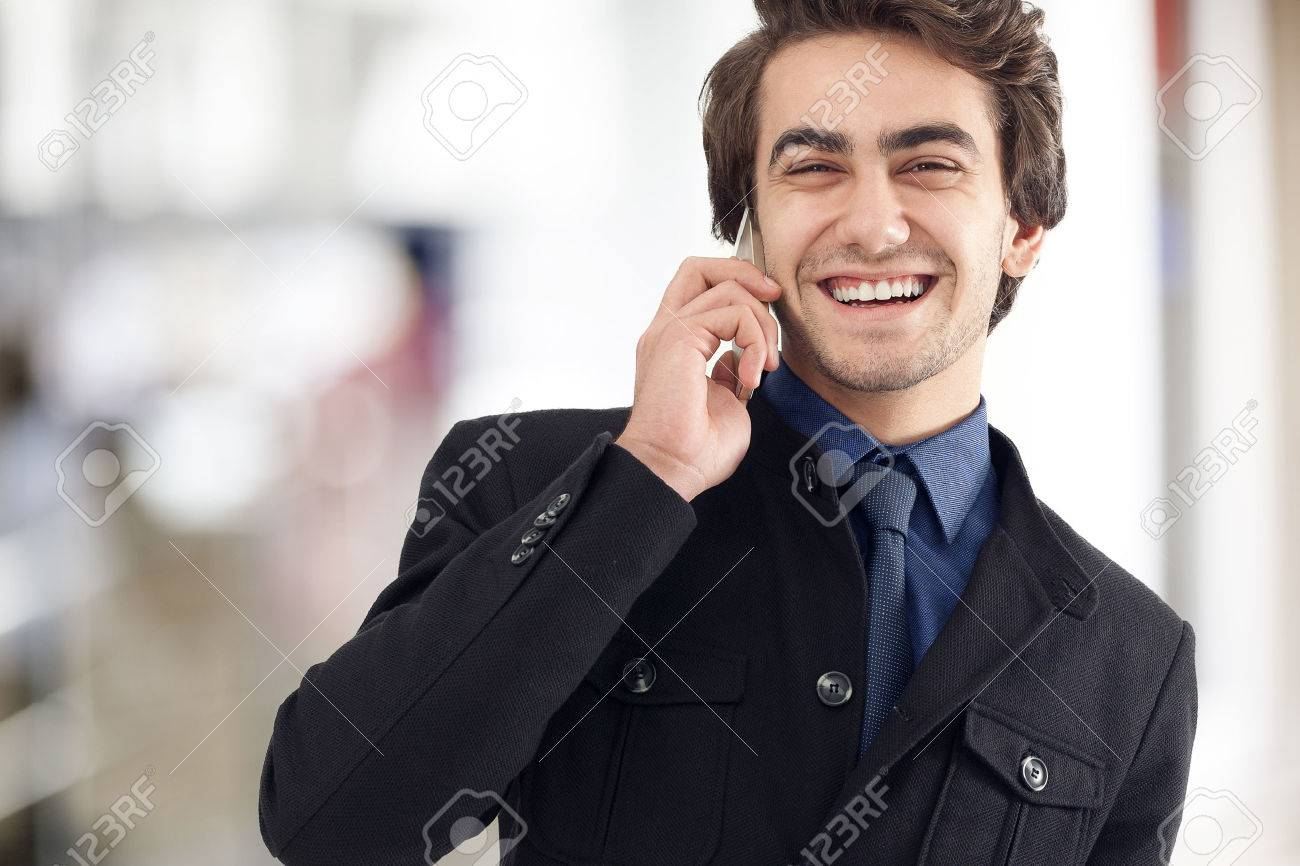phone: (707, 204, 779, 395)
talk: (633, 109, 1008, 480)
